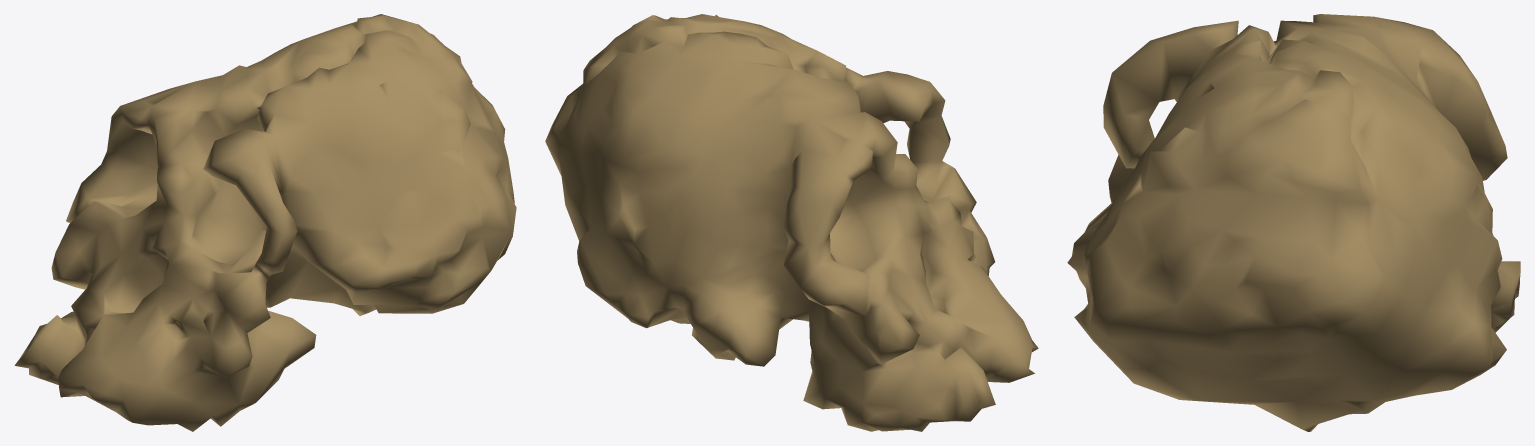
Rendered from platyops.glb.
The picture shows the model from 3 angles, left to right: view 1: azimuth 30°, elevation 25°; view 2: azimuth 150°, elevation 25°; view 3: azimuth 270°, elevation 25°; orthographic projection. The views are drawn at different scales.
Bounding box in the file's own units: 0.1644 × 0.11 × 0.1113.
